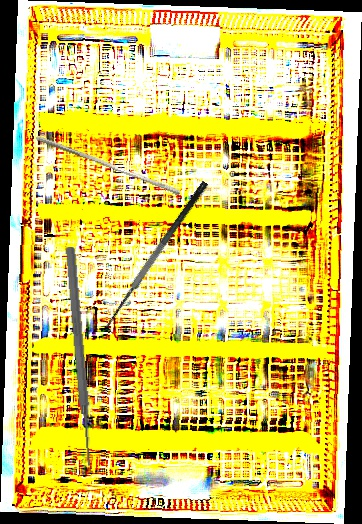Pusher: (33, 135, 183, 196), (62, 246, 97, 468)
Spatula Surgical: (98, 180, 221, 337)
